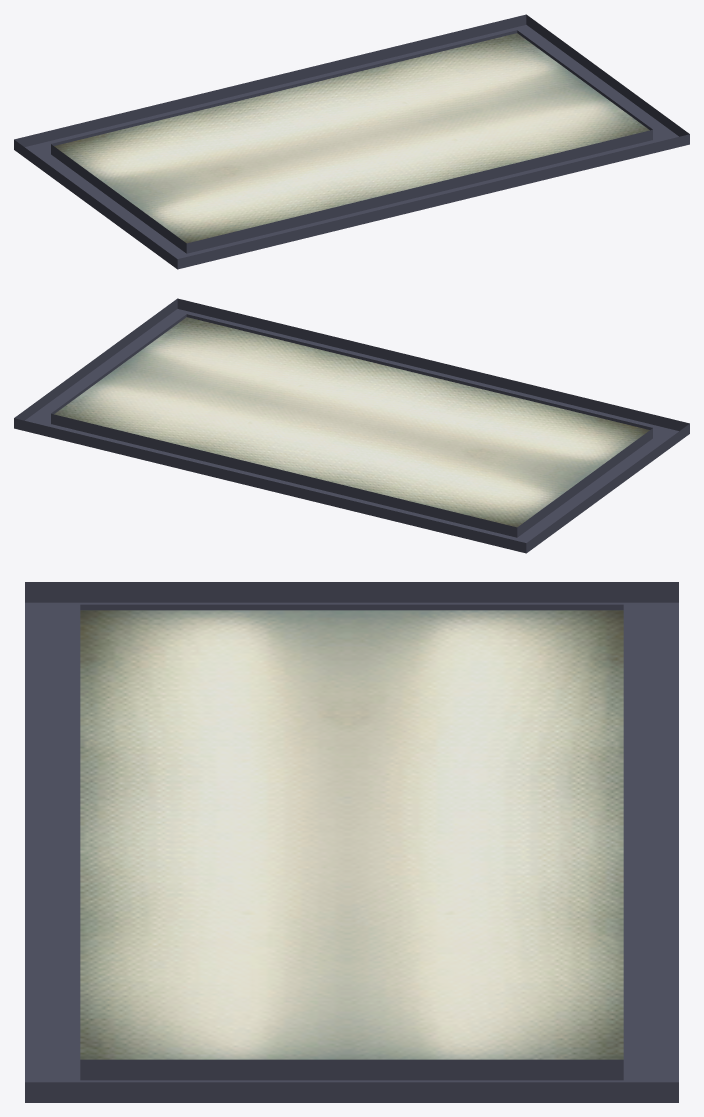
The model's file is lamp (2).fbx.
3 views of the same model, one above another, from view 1: azimuth 30°, elevation 25°; view 2: azimuth 150°, elevation 25°; view 3: azimuth 270°, elevation 25° (orthographic). The views are drawn at different scales.
Visible parts, largest first — view 1: Plane.023; view 2: Plane.023; view 3: Plane.023.
Boxes of the visible parts, <box> form: Plane.023: <box>14,14,689,269</box>; Plane.023: <box>14,298,689,553</box>; Plane.023: <box>25,582,678,1102</box>.
Bounding box in the file's own units: 131 × 2.52 × 72.23.
